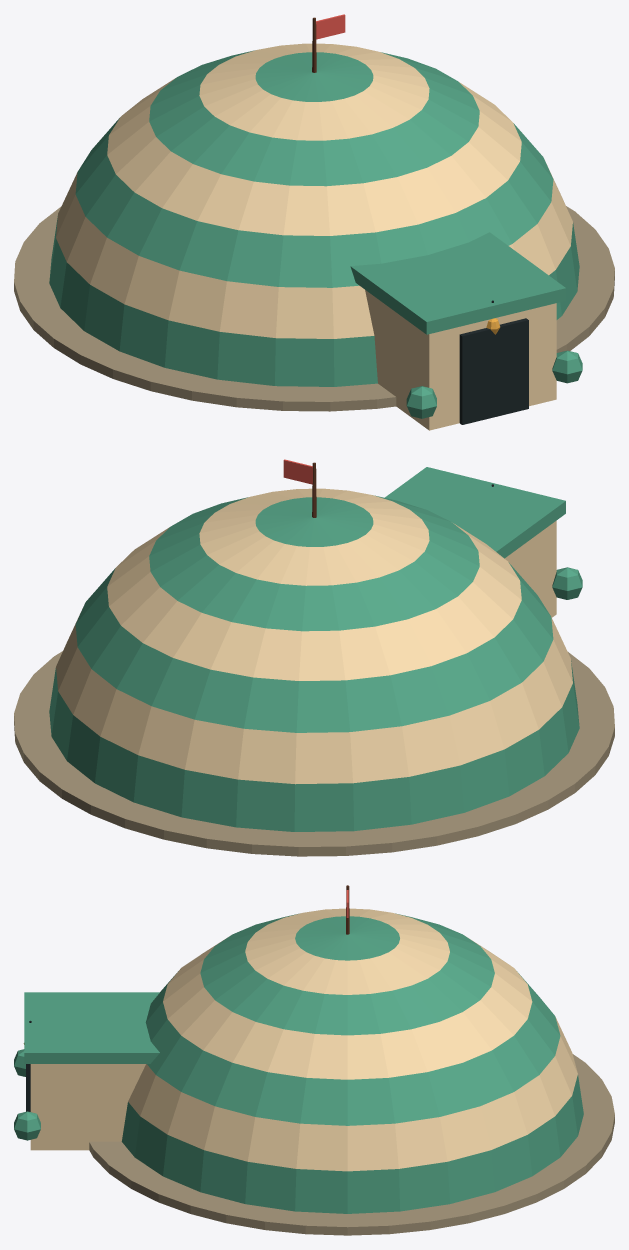
File: ParkParkIceCave.obj
3 renders of one model, top to bottom at view 1: azimuth 30°, elevation 25°; view 2: azimuth 150°, elevation 25°; view 3: azimuth 270°, elevation 25°, orthographic. The views are drawn at different scales.
Visible parts, largest first — view 1: ParkParkIceCave; view 2: ParkParkIceCave; view 3: ParkParkIceCave.
Part boxes in pixels (<box>): ParkParkIceCave: <box>14,14,614,430</box>; ParkParkIceCave: <box>14,459,614,856</box>; ParkParkIceCave: <box>14,885,614,1235</box>.
Size of the model in its own units: 17.2 by 8.4 by 19.33.
